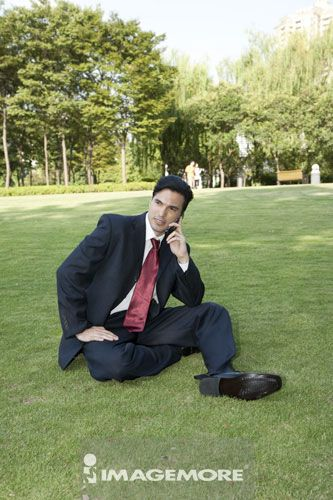talk: (148, 199, 188, 261)
